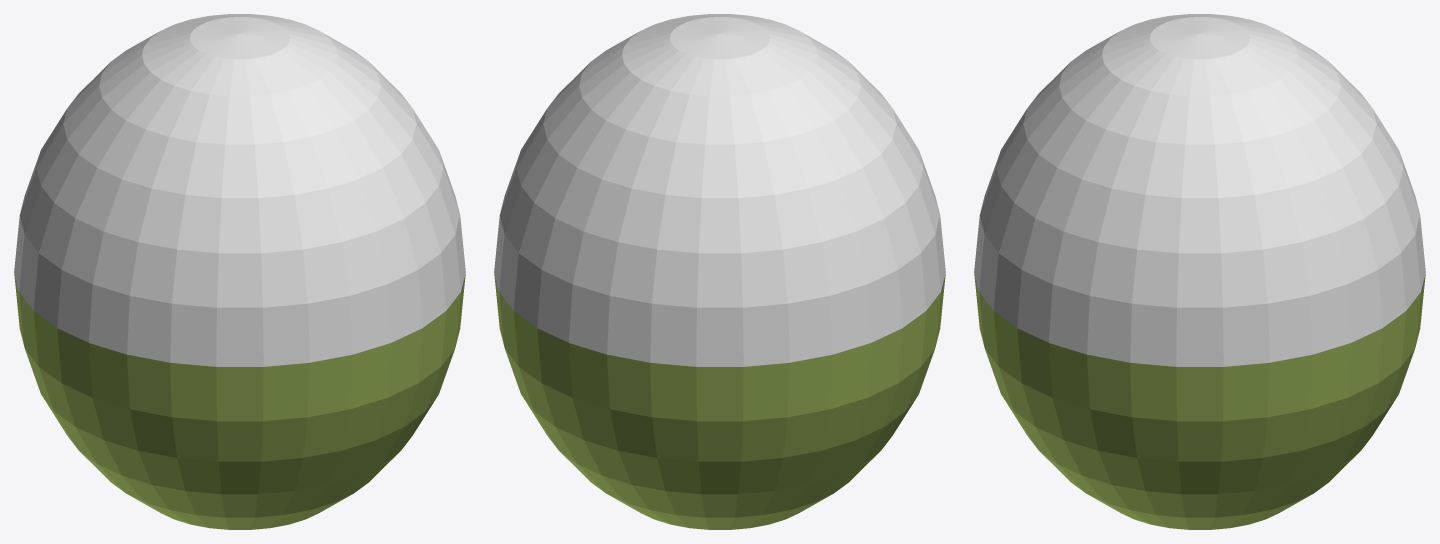
Rendered from melon.glb.
The picture shows the model from 3 angles, left to right: view 1: azimuth 30°, elevation 25°; view 2: azimuth 150°, elevation 25°; view 3: azimuth 270°, elevation 25°; orthographic projection.
Visible parts, largest first — view 1: Sphere, melon; view 2: Sphere, melon; view 3: Sphere, melon.
Boxes of the visible parts, x1,y1,x2,y2 form: Sphere: [14, 14, 465, 366]; melon: [14, 274, 465, 529]; Sphere: [494, 14, 945, 366]; melon: [494, 274, 945, 529]; Sphere: [974, 14, 1425, 366]; melon: [974, 274, 1425, 529].
Size of the model in its own units: 0.4376 by 0.5122 by 0.44.
